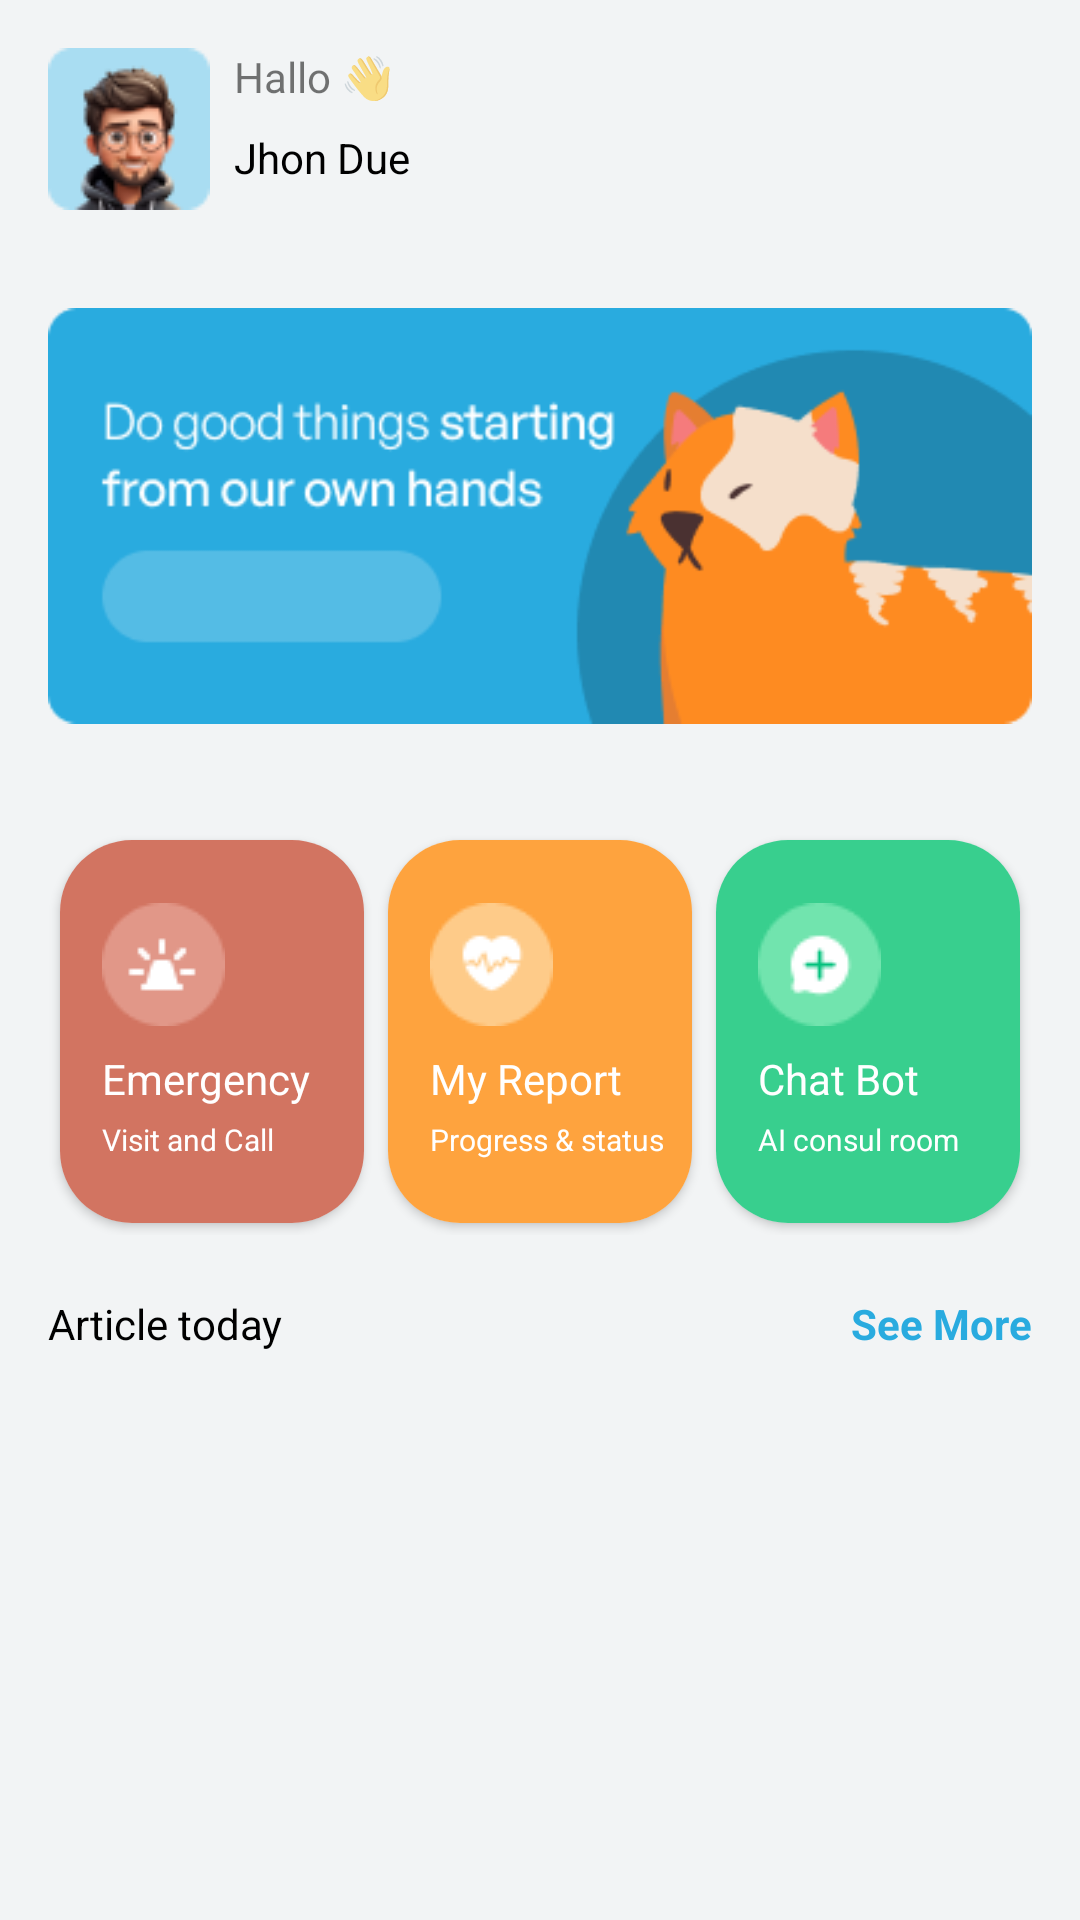

Named icons in this screenshot (1080 × 1920) and their centers, point (x, y):
heart: point (491, 964)
profile: point (129, 129)
